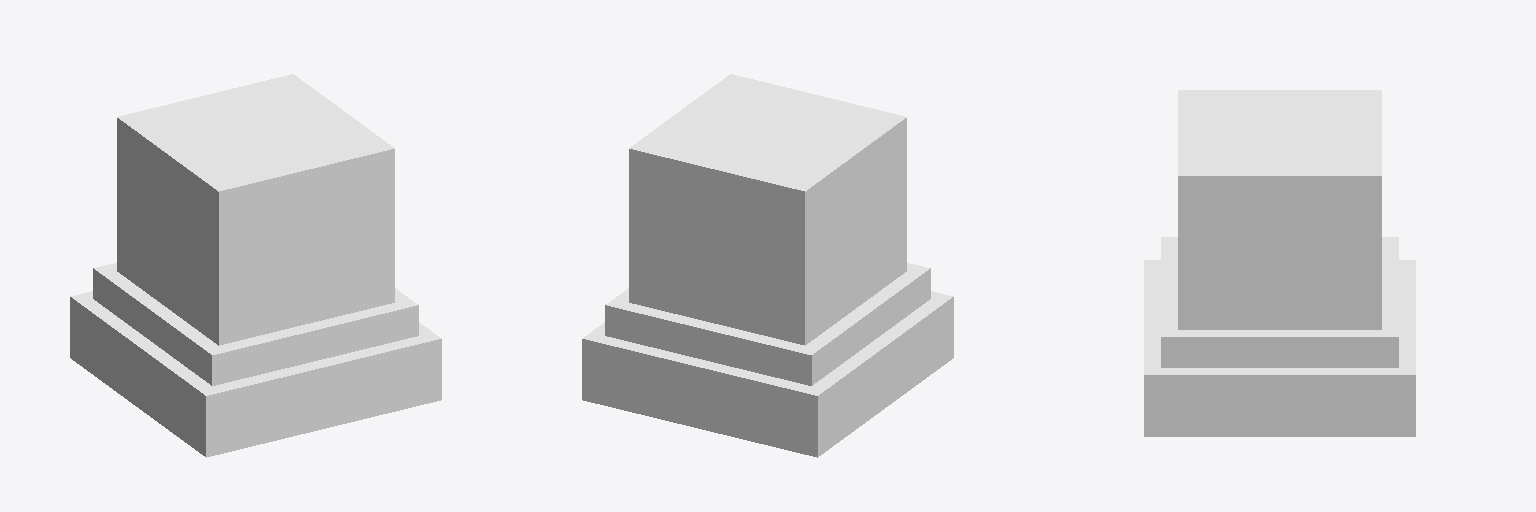
Rendered from interruptor.obj.
The picture shows the model from 3 angles: view 1: azimuth 30°, elevation 25°; view 2: azimuth 150°, elevation 25°; view 3: azimuth 270°, elevation 25°; orthographic projection.
Parts seen in each view (by area): view 1: object 1; view 2: object 1; view 3: object 1.
Part boxes in pixels (x1,y1,x2,y2): object 1: (70, 74, 441, 457); object 1: (582, 74, 953, 457); object 1: (1144, 90, 1415, 436).
Bounding box in the file's own units: 1.6 × 1.6 × 1.6.